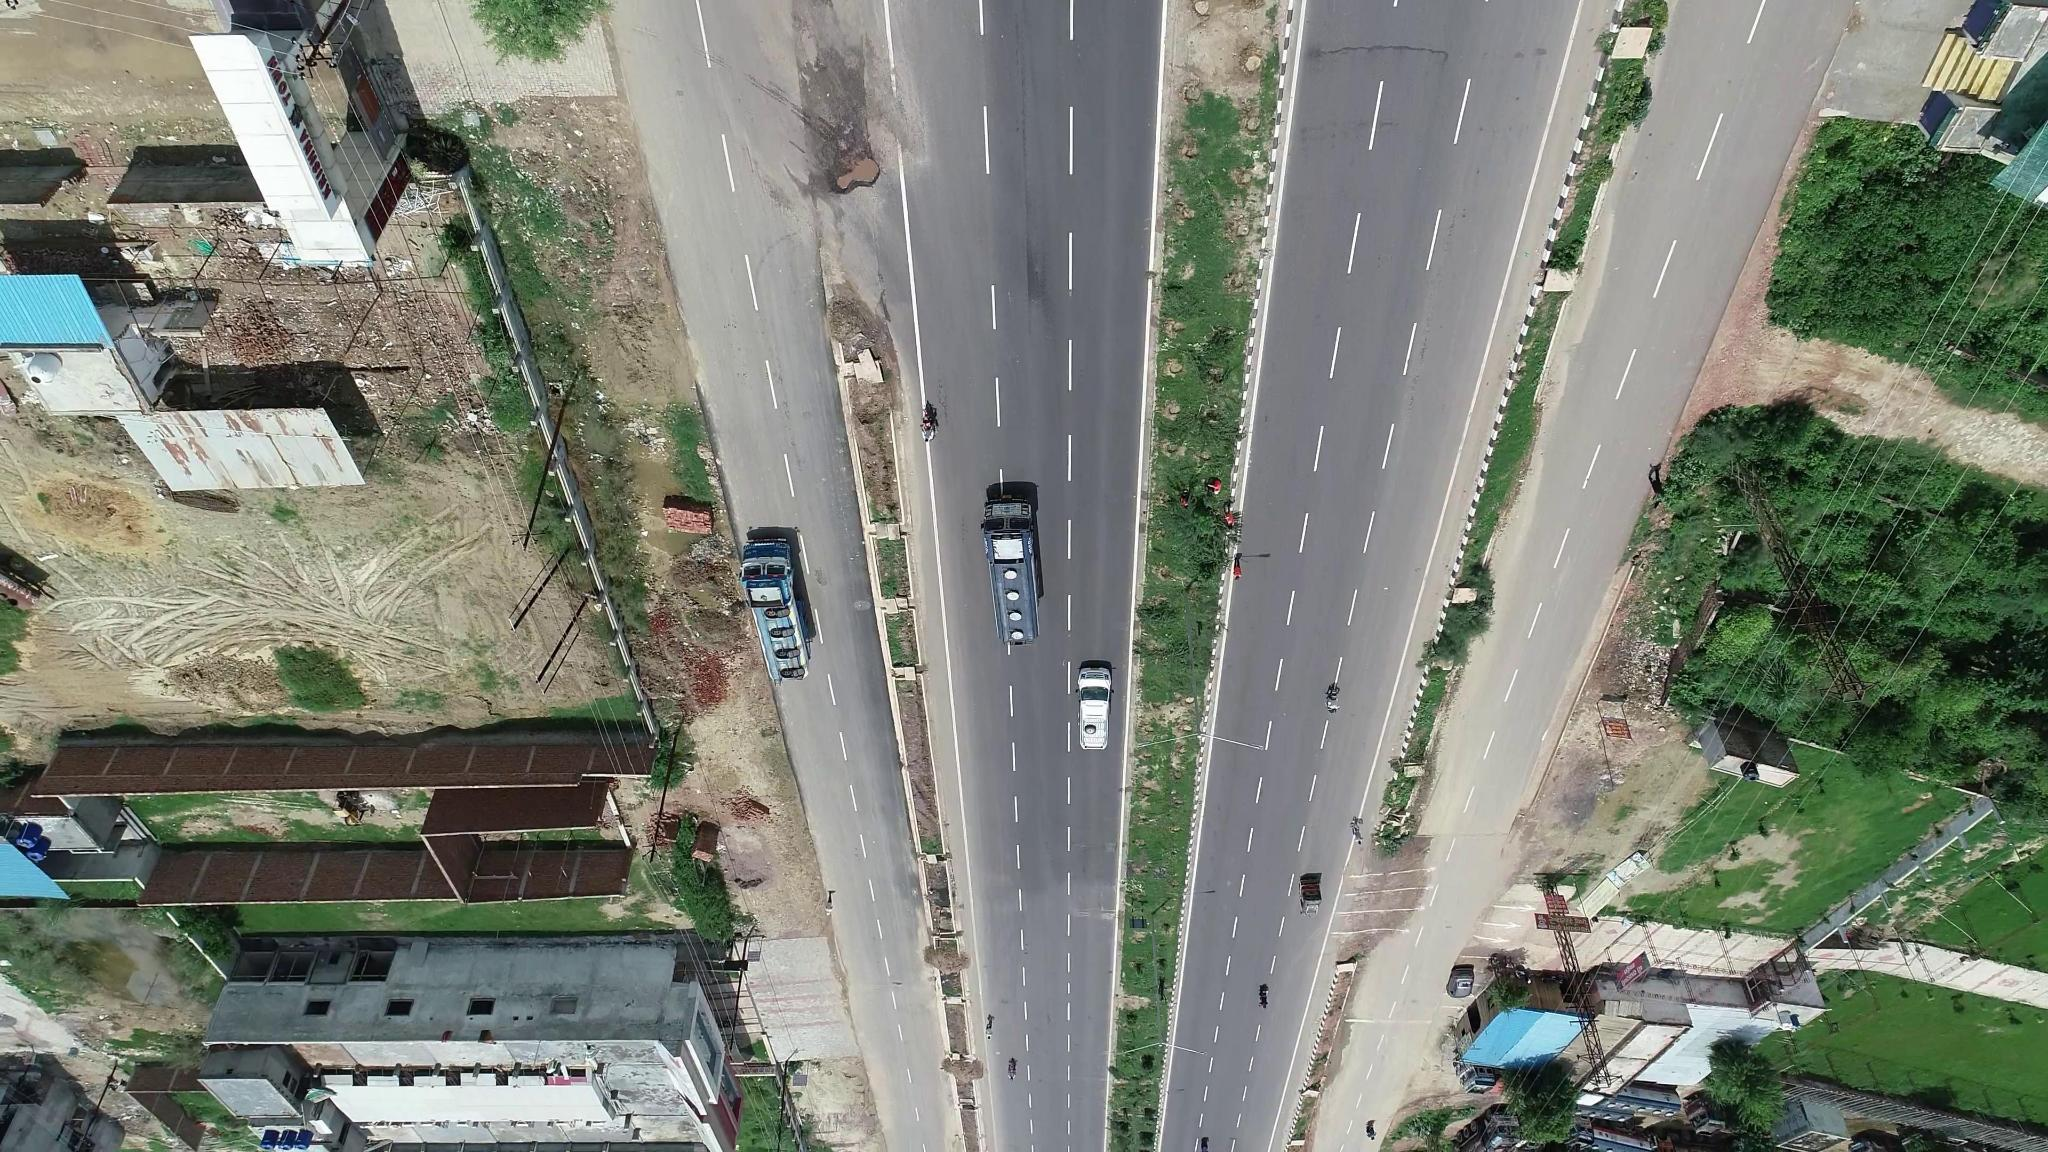Potholes: (812, 136, 919, 208)
